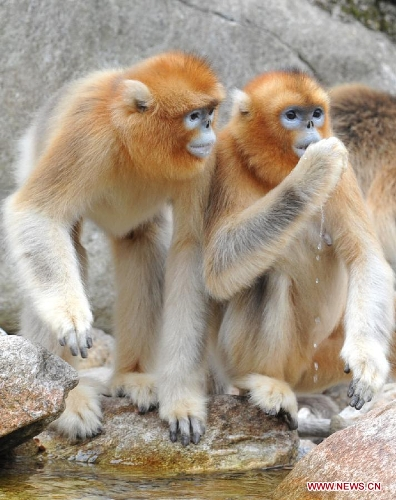GoldenSnub-Nosed: (4, 54, 222, 356), (208, 69, 386, 399)
